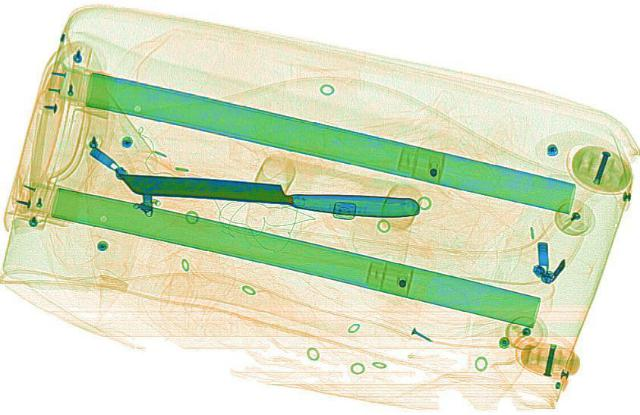Knife: (118, 171, 422, 218)
